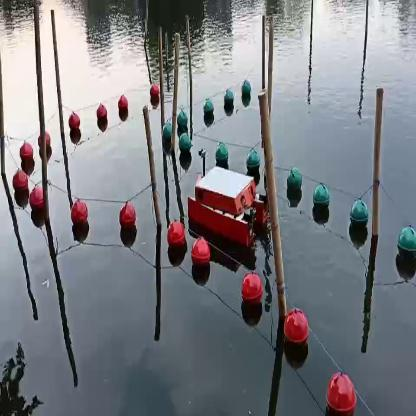green_buoy: (396, 226, 415, 268), (286, 164, 302, 200), (352, 202, 368, 238), (313, 184, 329, 218), (211, 138, 229, 166), (246, 147, 261, 176), (180, 134, 192, 165), (162, 120, 173, 152), (178, 108, 188, 132), (203, 99, 213, 122), (224, 89, 233, 110), (240, 81, 250, 98)
red_buoy: (282, 307, 310, 358), (325, 372, 357, 412), (164, 214, 185, 257), (242, 272, 262, 306), (18, 139, 36, 171), (120, 199, 136, 234), (70, 197, 88, 228), (191, 239, 210, 267), (30, 188, 43, 216), (13, 166, 25, 196), (117, 92, 129, 121), (146, 83, 160, 106), (69, 110, 81, 136), (98, 102, 106, 127)
